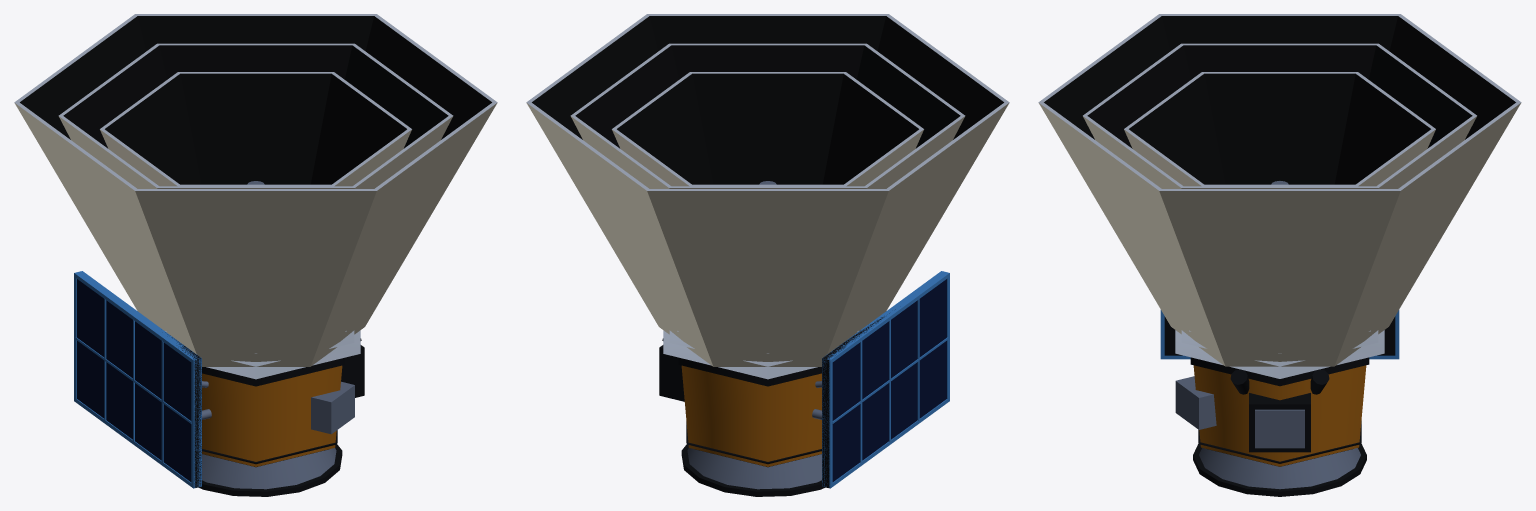
Rendered from spherex-observatory.obj.
The picture shows the model from 3 angles, left to right: view 1: azimuth 30°, elevation 25°; view 2: azimuth 150°, elevation 25°; view 3: azimuth 270°, elevation 25°; orthographic projection.
Visible parts, largest first — view 1: Photon_Shield_Outer_Exterior, Photon_Shield_Inner_Interior, Photon_Shield_Outer_Interior, Solar_Cells_Plate, Photon_Shield_Middle_Interior, Bus_Hex_Body, Base_Adapter_Cone, Photon_Shield_Outer_Rim, Photon_Shield_Middle_Exterior, Photon_Shield_Middle_Rim, Photon_Shield_Inner_Rim, Photon_Shield_Inner_Exterior (+9 smaller); view 2: Photon_Shield_Outer_Exterior, Photon_Shield_Inner_Interior, Photon_Shield_Outer_Interior, Solar_Cells_Plate, Photon_Shield_Middle_Interior, Bus_Hex_Body, Base_Adapter_Cone, Photon_Shield_Outer_Rim, Photon_Shield_Middle_Exterior, Photon_Shield_Middle_Rim, Photon_Shield_Inner_Rim, Photon_Shield_Inner_Exterior (+8 smaller); view 3: Photon_Shield_Outer_Exterior, Photon_Shield_Inner_Interior, Photon_Shield_Outer_Interior, Photon_Shield_Middle_Interior, Bus_Hex_Body, Base_Adapter_Cone, Photon_Shield_Outer_Rim, Photon_Shield_Middle_Exterior, Photon_Shield_Middle_Rim, Photon_Shield_Inner_Rim, Equipment_Radiator_Plate, Photon_Shield_Inner_Exterior (+7 smaller).
Part boxes in pixels (box(x1,y1,x2,y2)): Photon_Shield_Outer_Exterior: box(14, 103, 497, 366); Photon_Shield_Inner_Interior: box(105, 73, 406, 184); Photon_Shield_Outer_Interior: box(20, 16, 491, 139); Solar_Cells_Plate: box(77, 279, 191, 481); Photon_Shield_Middle_Interior: box(63, 45, 448, 148); Bus_Hex_Body: box(202, 365, 342, 466); Base_Adapter_Cone: box(202, 448, 336, 489); Photon_Shield_Outer_Rim: box(14, 14, 497, 190); Photon_Shield_Middle_Exterior: box(58, 116, 453, 188); Photon_Shield_Middle_Rim: box(58, 43, 453, 187); Photon_Shield_Inner_Rim: box(100, 72, 411, 186); Photon_Shield_Inner_Exterior: box(100, 129, 411, 186); Photon_Shield_Outer_Exterior: box(526, 103, 1009, 366); Photon_Shield_Inner_Interior: box(617, 73, 918, 184); Photon_Shield_Outer_Interior: box(532, 16, 1003, 139); Solar_Cells_Plate: box(832, 279, 946, 481); Photon_Shield_Middle_Interior: box(575, 45, 960, 148); Bus_Hex_Body: box(681, 365, 821, 466); Base_Adapter_Cone: box(687, 448, 821, 489); Photon_Shield_Outer_Rim: box(526, 14, 1009, 190); Photon_Shield_Middle_Exterior: box(570, 116, 965, 188); Photon_Shield_Middle_Rim: box(570, 43, 965, 187); Photon_Shield_Inner_Rim: box(612, 72, 923, 186); Photon_Shield_Inner_Exterior: box(612, 129, 923, 186); Photon_Shield_Outer_Exterior: box(1039, 103, 1520, 366); Photon_Shield_Inner_Interior: box(1129, 73, 1430, 184); Photon_Shield_Outer_Interior: box(1044, 16, 1515, 139); Photon_Shield_Middle_Interior: box(1087, 45, 1472, 148); Bus_Hex_Body: box(1193, 365, 1366, 466); Base_Adapter_Cone: box(1199, 448, 1360, 489); Photon_Shield_Outer_Rim: box(1038, 14, 1521, 190); Photon_Shield_Middle_Exterior: box(1083, 116, 1476, 188); Photon_Shield_Middle_Rim: box(1083, 43, 1476, 187); Photon_Shield_Inner_Rim: box(1124, 72, 1435, 186); Equipment_Radiator_Plate: box(1255, 409, 1304, 448); Photon_Shield_Inner_Exterior: box(1124, 129, 1435, 186).
Size of the model in its own units: 2.84 by 2.76 by 3.28.
